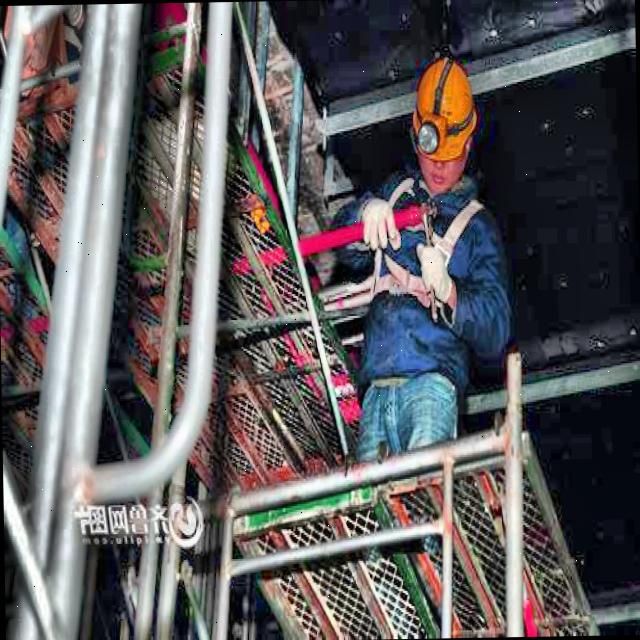helmet: (408, 46, 478, 203)
